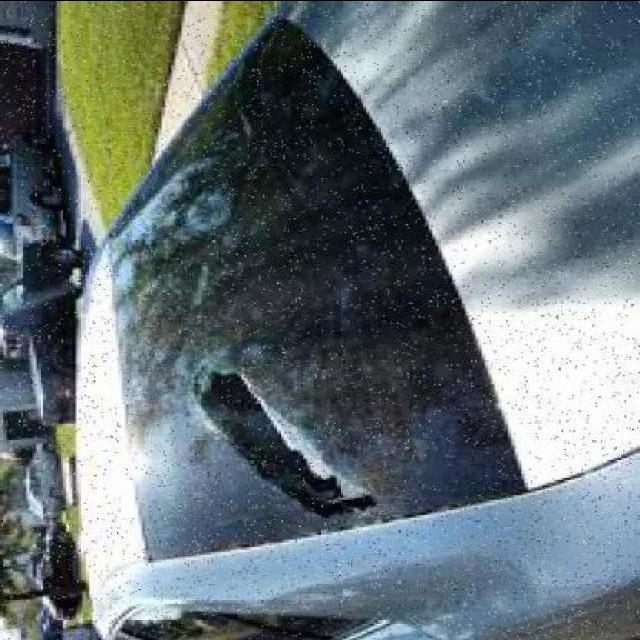Rear-windscreen-Damage: (113, 10, 542, 586)
